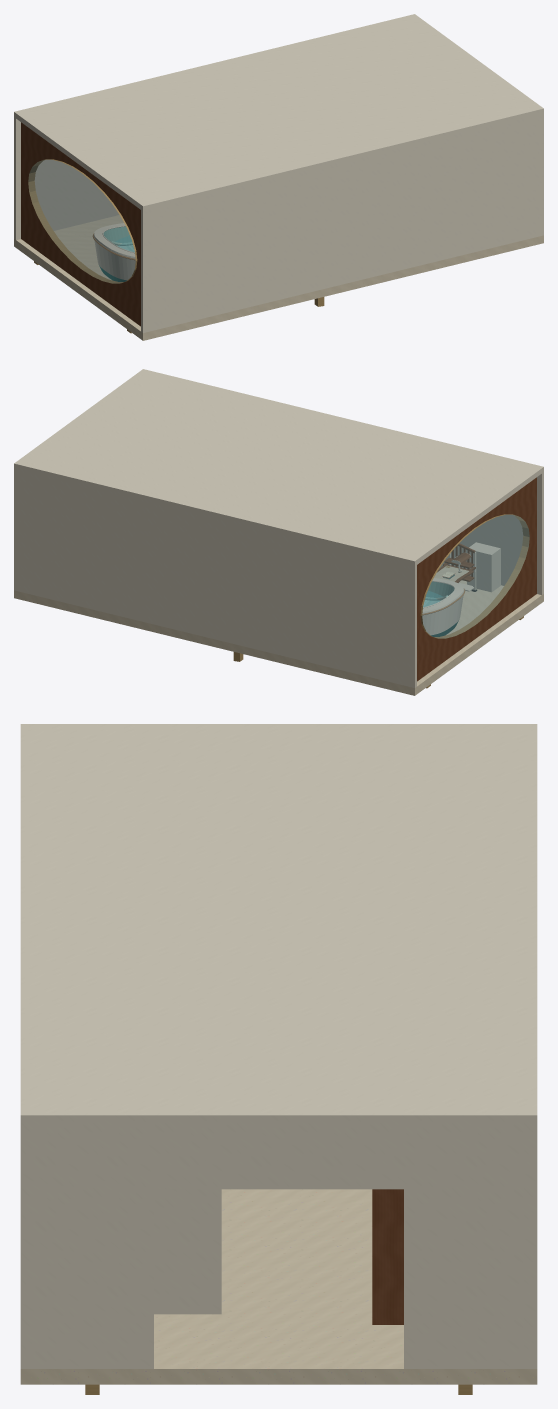
Rendered from NightGardenD15Specialty_464_r001.glb.
3 renders of one model, top to bottom at view 1: azimuth 30°, elevation 25°; view 2: azimuth 150°, elevation 25°; view 3: azimuth 270°, elevation 25°, orthographic. The views are drawn at different scales.
Parts seen in each view (by area): view 1: NG464_Ceiling, NG464_SouthSide, NG464_OvalAtriumGlass, NG464_RoomFloor, NG464_OvalWindowReveal, NG464_NorthSide, NG464_ReservedRestSupport__Hollow continuous basin shell wit, NG464_OvalDepthReturn; view 2: NG464_Ceiling, NG464_NorthSide, NG464_OvalAtriumGlass, NG464_RoomFloor, NG464_OvalWindowReveal, NG464_SouthSide, NG464_ReservedRestSupport__Hollow continuous basin shell wit, NG464_OvalDepthReturn, NG464_RinseServiceMount; view 3: NG464_Ceiling, NG464_RoomFloor, NG464_EntryShoulderSouth, NG464_EntryShoulderNorth, NG464_EntryHeader, NG464_WashEntrySide, NG464_EntryPrivacyDogleg, NG464_NorthSide, NG464_SouthSide.
Boxes of the visible parts, bbox=[...] form: NG464_Ceiling: bbox=[14, 14, 543, 211]; NG464_SouthSide: bbox=[141, 114, 543, 332]; NG464_OvalAtriumGlass: bbox=[28, 160, 135, 283]; NG464_RoomFloor: bbox=[14, 215, 543, 340]; NG464_OvalWindowReveal: bbox=[21, 122, 140, 326]; NG464_NorthSide: bbox=[14, 117, 119, 239]; NG464_ReservedRestSupport__Hollow continuous basin shell wit: bbox=[93, 223, 135, 281]; NG464_OvalDepthReturn: bbox=[28, 159, 137, 283]; NG464_Ceiling: bbox=[14, 369, 543, 566]; NG464_NorthSide: bbox=[14, 469, 416, 687]; NG464_OvalAtriumGlass: bbox=[422, 515, 529, 638]; NG464_RoomFloor: bbox=[14, 580, 543, 695]; NG464_OvalWindowReveal: bbox=[417, 477, 536, 681]; NG464_SouthSide: bbox=[440, 472, 543, 594]; NG464_ReservedRestSupport__Hollow continuous basin shell wit: bbox=[422, 578, 464, 636]; NG464_OvalDepthReturn: bbox=[420, 514, 529, 638]; NG464_RinseServiceMount: bbox=[467, 542, 500, 592]; NG464_Ceiling: bbox=[20, 724, 537, 1125]; NG464_RoomFloor: bbox=[20, 1189, 537, 1384]; NG464_EntryShoulderSouth: bbox=[29, 1125, 153, 1368]; NG464_EntryShoulderNorth: bbox=[404, 1125, 528, 1368]; NG464_EntryHeader: bbox=[150, 1125, 407, 1189]; NG464_WashEntrySide: bbox=[154, 1189, 221, 1314]; NG464_EntryPrivacyDogleg: bbox=[372, 1189, 403, 1324]; NG464_NorthSide: bbox=[528, 1125, 537, 1368]; NG464_SouthSide: bbox=[20, 1125, 29, 1368].
Size of the model in its own units: 12.9 by 4.91 by 7.2.
61 materials, 43 textured.
